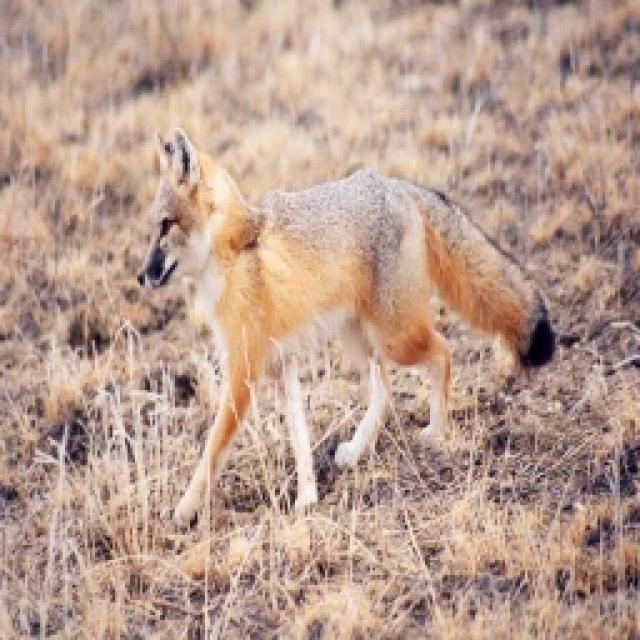Fox: (131, 131, 557, 533)
